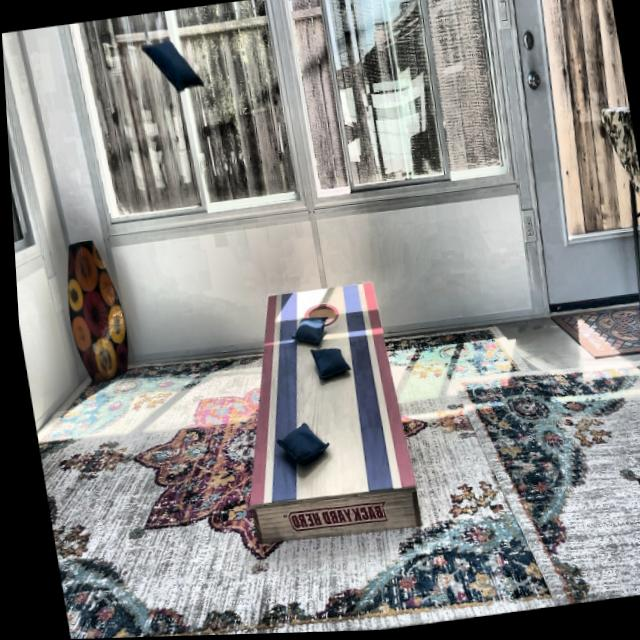blue-bean-bag: (138, 33, 203, 97), (267, 419, 324, 468), (304, 343, 346, 383), (284, 314, 325, 349)
board: (249, 282, 402, 503)
hole: (298, 301, 335, 329)
